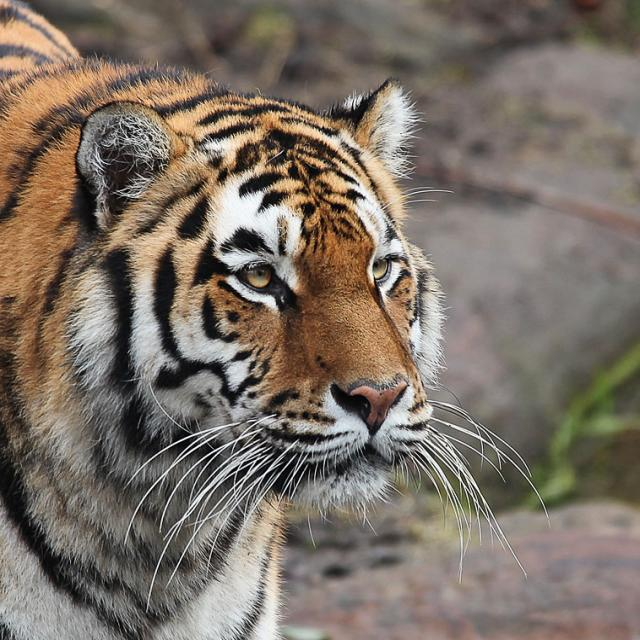Tiger: (0, 3, 440, 639)
